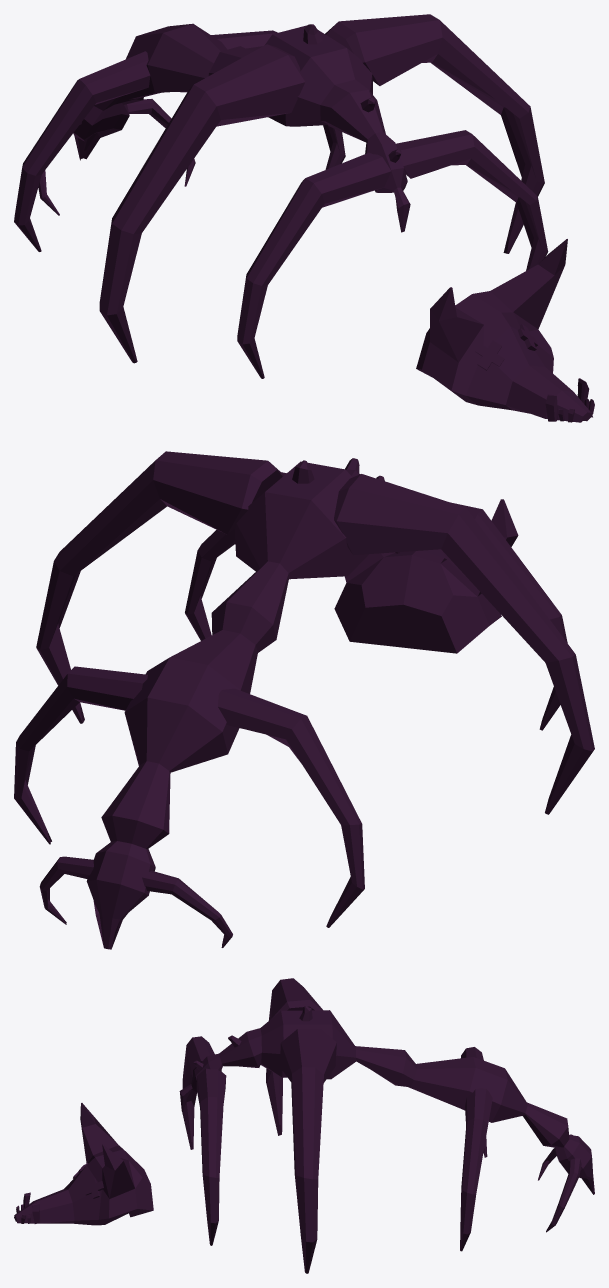
File: ENV_animalskeleton_placeholder.fbx
The picture shows the model from 3 angles, top to bottom: view 1: azimuth 30°, elevation 25°; view 2: azimuth 150°, elevation 25°; view 3: azimuth 270°, elevation 25°; orthographic projection. The views are drawn at different scales.
Visible parts, largest first — view 1: Cube.014; view 2: Cube.014; view 3: Cube.014.
Boxes of the visible parts, <box> form: Cube.014: <box>14,14,594,422</box>; Cube.014: <box>14,451,594,949</box>; Cube.014: <box>14,978,594,1273</box>.
Bounding box in the file's own units: 2621 × 1737 × 1054.
